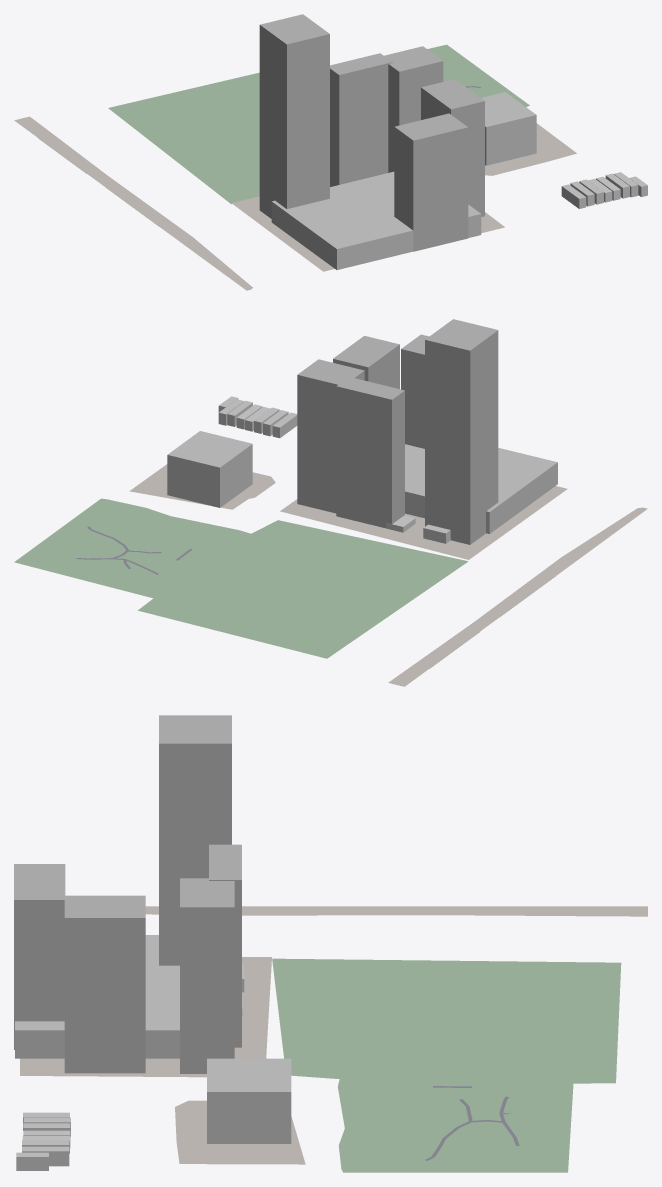
The model's file is 120_84_mid.glb.
The picture shows the model from 3 angles, top to bottom: view 1: azimuth 30°, elevation 25°; view 2: azimuth 150°, elevation 25°; view 3: azimuth 270°, elevation 25°; orthographic projection. The views are drawn at different scales.
Bounding box in the file's own units: 500 × 223 × 505.
